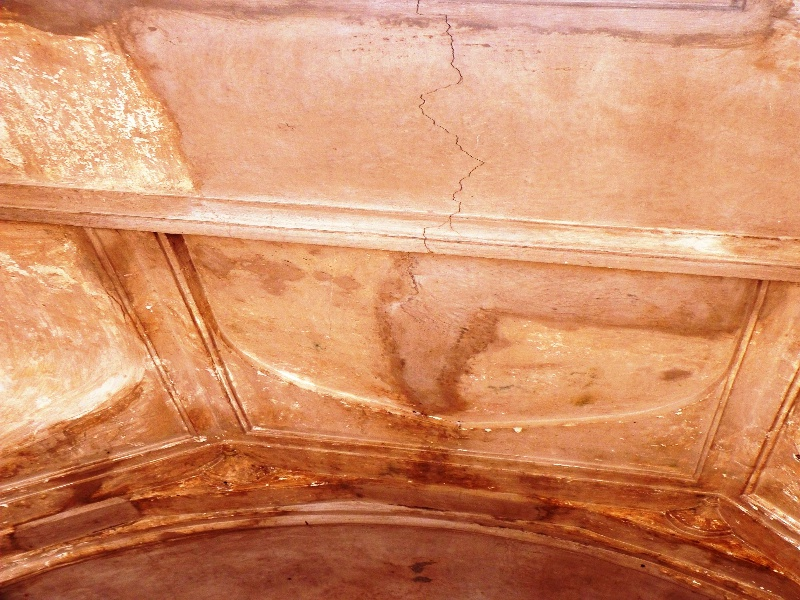Crack: (413, 1, 488, 255)
